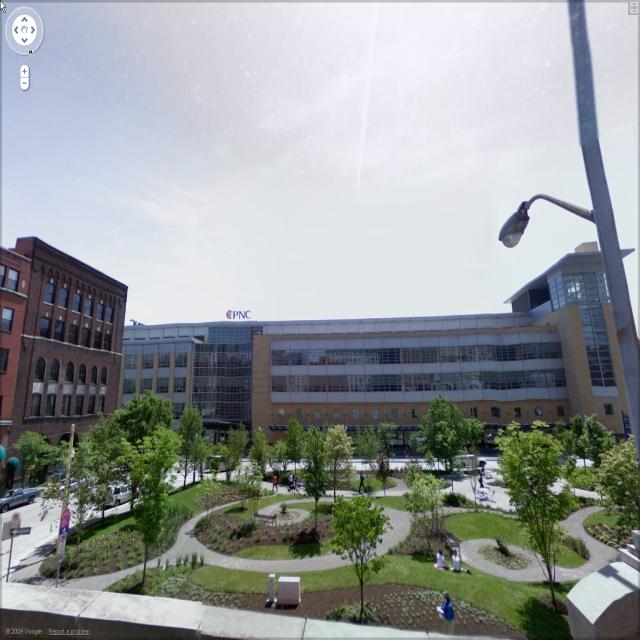b_1: (119, 259, 632, 433), (0, 229, 130, 464)
